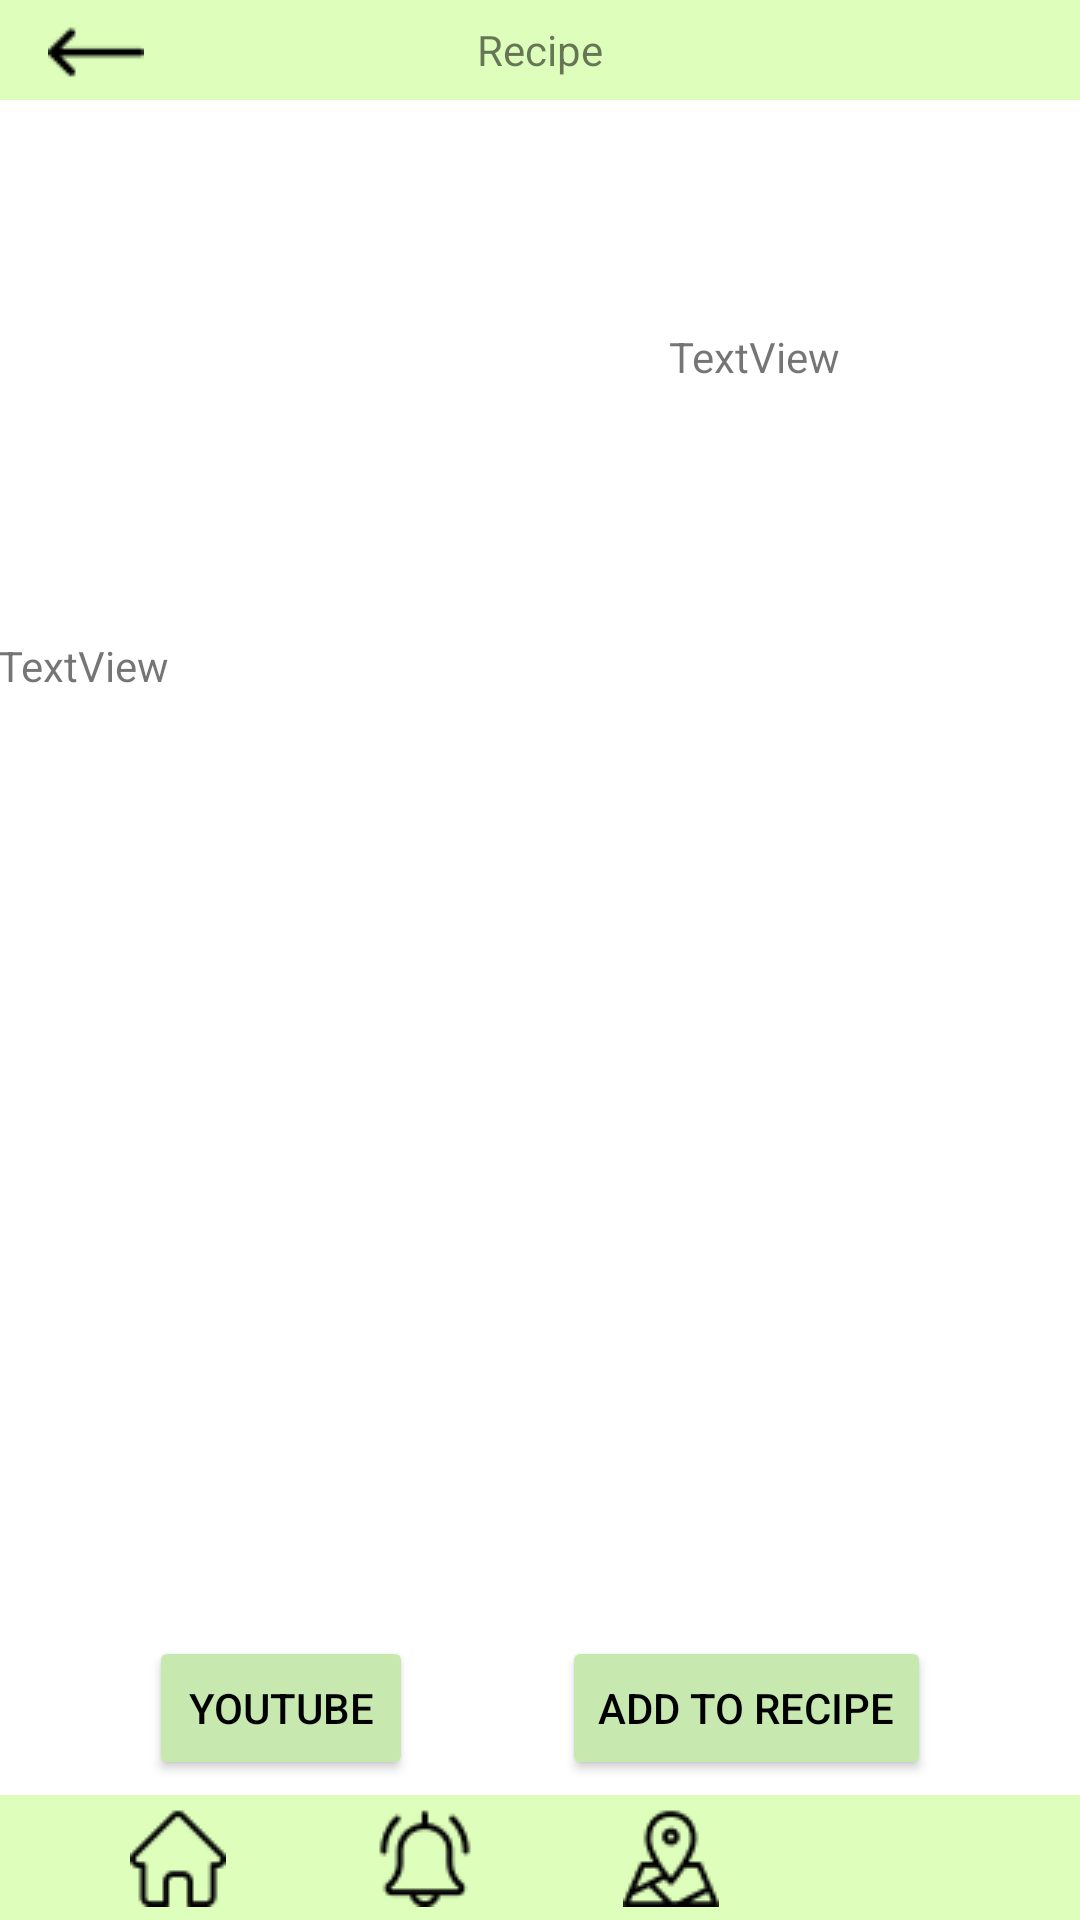

Icons on this 1080px×1920px Android screen, each with the point to tap as [x,y]:
back arrow: [96,52]
home: [178,1858]
maps: [671,1858]
reminder: [425,1858]
